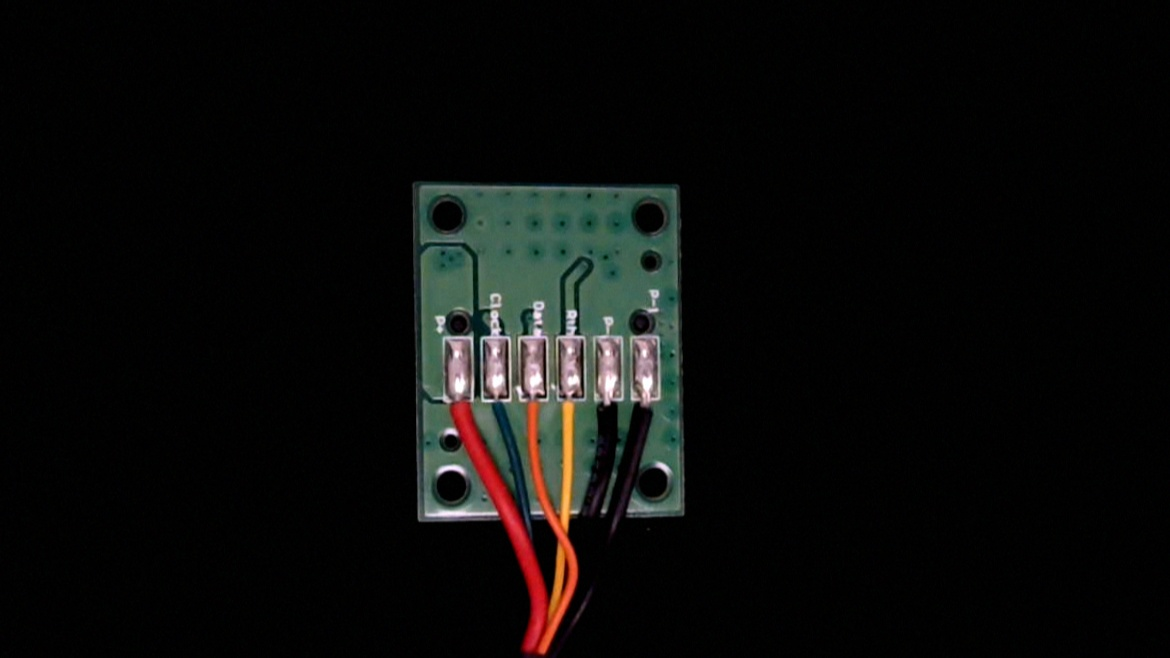Black: (592, 381, 625, 455)
Black1: (631, 382, 663, 450)
Green: (481, 379, 509, 439)
Orange: (518, 384, 549, 456)
Red: (443, 381, 476, 453)
Yellow: (555, 382, 588, 458)
